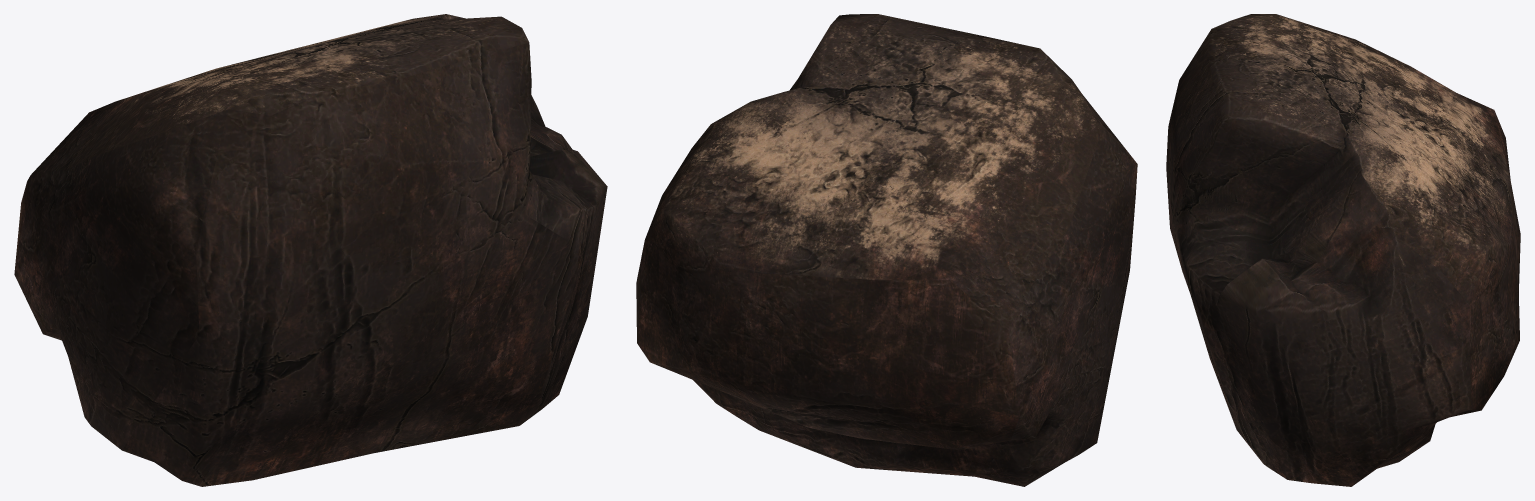
Rendered from rock_red_small02.dae.
3 views of the same model, side by side, from view 1: azimuth 30°, elevation 25°; view 2: azimuth 150°, elevation 25°; view 3: azimuth 270°, elevation 25° (orthographic). The views are drawn at different scales.
Parts seen in each view (by area): view 1: Mesh; view 2: Mesh; view 3: Mesh.
Part boxes in pixels (left/top/right/bottom): Mesh: left=14, top=14, right=607, bottom=486; Mesh: left=636, top=14, right=1137, bottom=486; Mesh: left=1166, top=14, right=1520, bottom=486.
Size of the model in its own units: 1.38 by 1.15 by 1.05.
